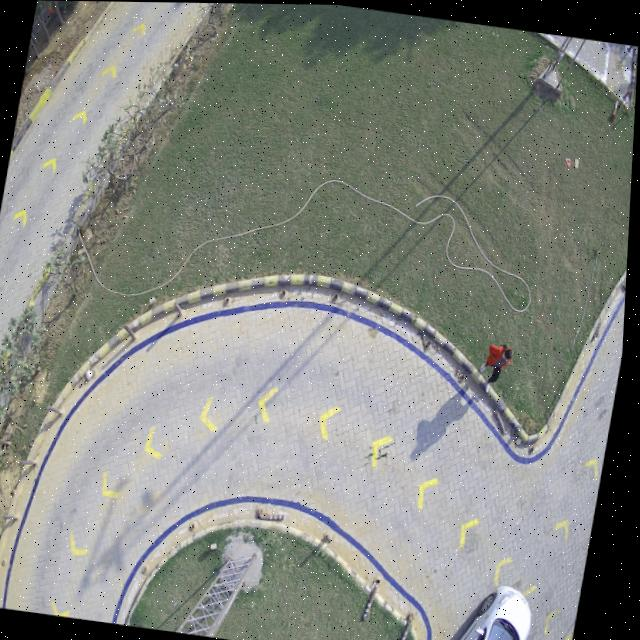car: (465, 584, 538, 640)
